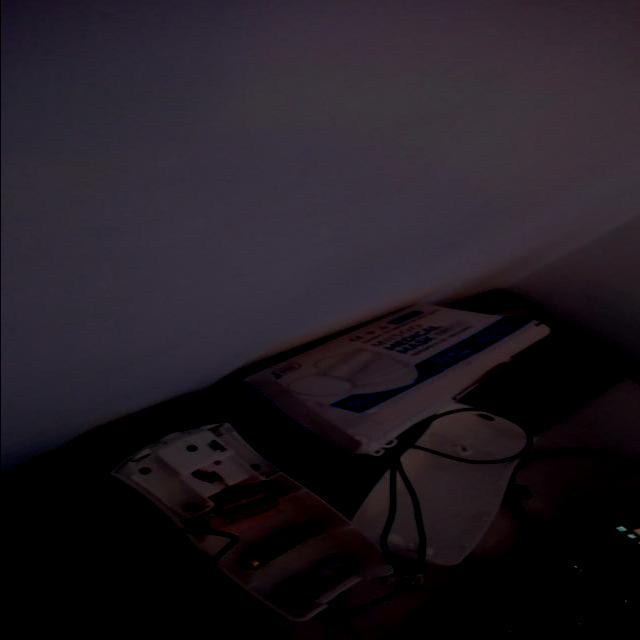9V: (169, 466, 295, 537)
AA: (230, 516, 328, 584), (278, 556, 370, 620)
